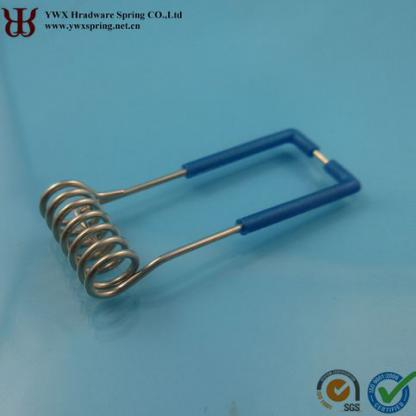FOD: (35, 127, 364, 303)
